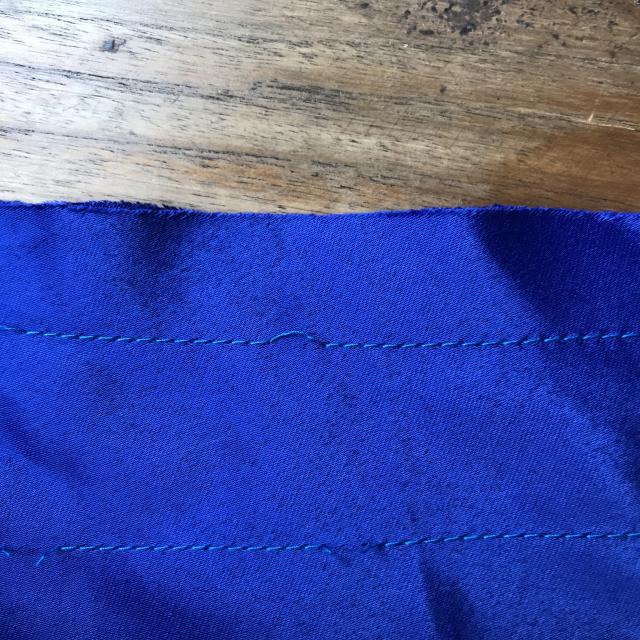broken: (290, 521, 408, 582)
good: (439, 316, 568, 364)
skip: (240, 306, 362, 372)
